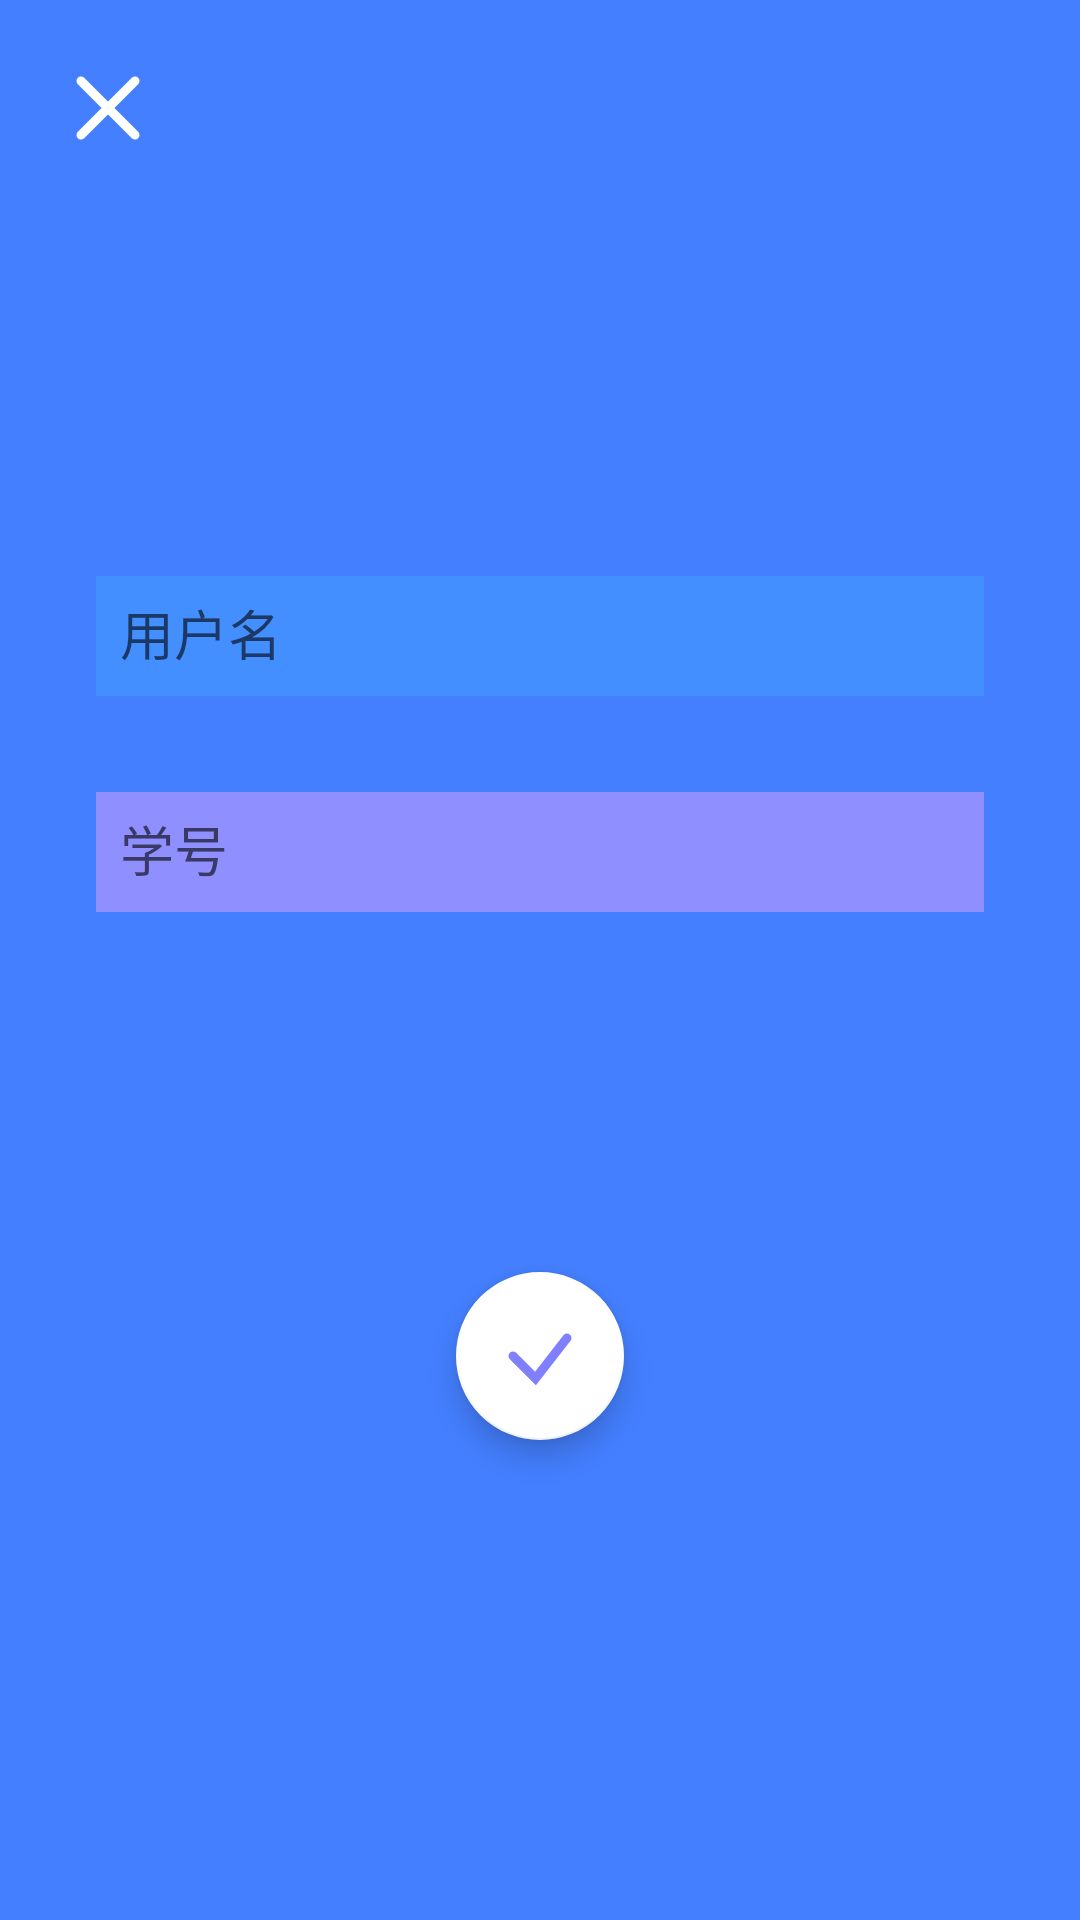

Point at icon controls on the screen. Image size 1080 × 1920, points as (x=x, y=y).
close: (x=108, y=108)
tick: (x=540, y=1356)
